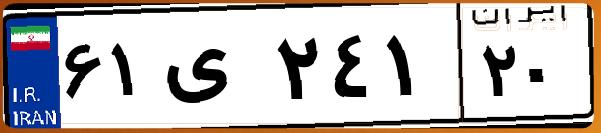0: (525, 38, 570, 115)
1: (385, 28, 445, 110), (110, 28, 158, 98)
2: (270, 28, 330, 110), (475, 38, 525, 113)
4: (330, 28, 385, 110)
6: (57, 26, 110, 100)
ی: (158, 20, 270, 120)
